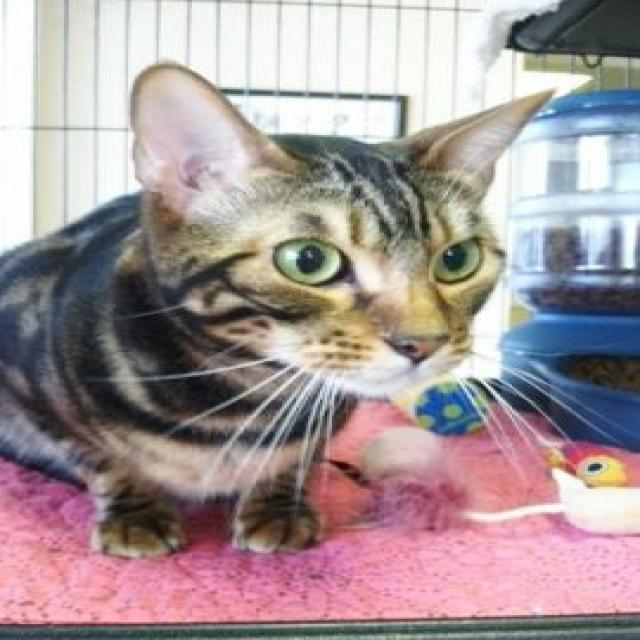Bengal: (0, 49, 559, 574)
